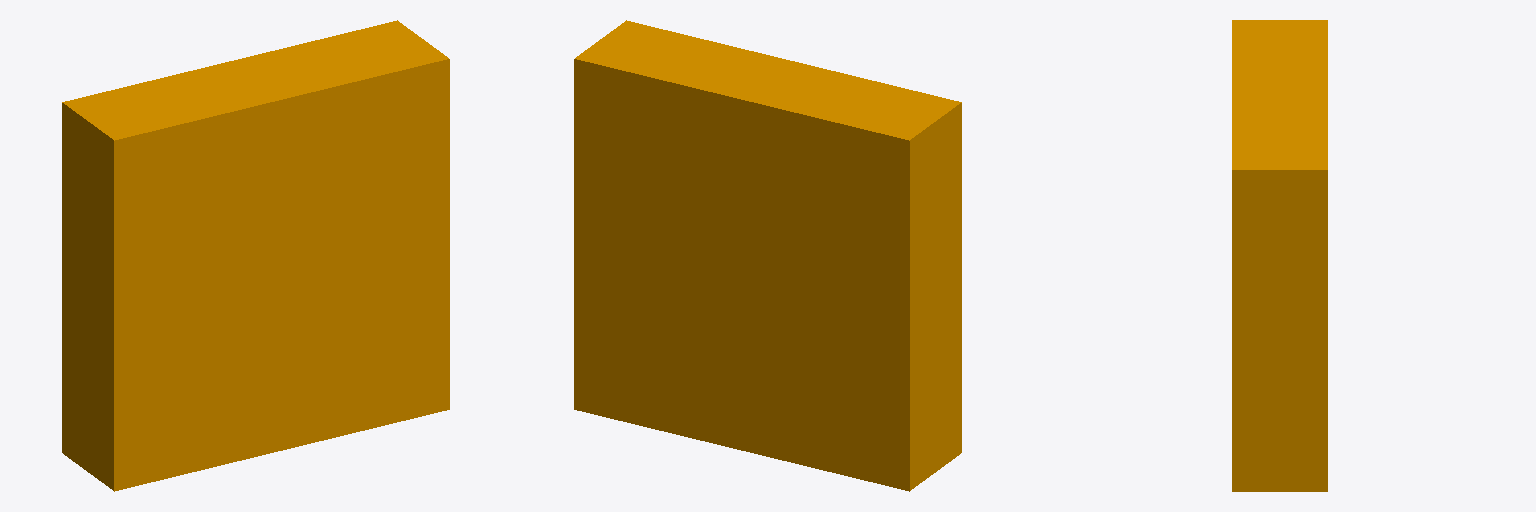
The robot description file, URDF, robot "object":
<?xml version="1.0"?>
<robot name="object">
  <link name="object">
    <visual>
      <origin xyz="0 0 0"/>
      <geometry>
        <mesh filename="meshes/cube_multicolor_scale.obj" scale="1 1 1"/>
      </geometry>
    </visual>
    <collision>
      <origin xyz="0 0 0"/>
      <geometry>
        <mesh filename="meshes/cube_multicolor_scale.obj" scale="1 1 1"/>
      </geometry>
    </collision>
    <inertial>
      <density value="567.0"/>
    </inertial>
  </link>
</robot>

--- What the picture shows (computed from the rendered views, not written in the file) ---
3 views of the same robot in one strip: view 1: azimuth 30°, elevation 25°; view 2: azimuth 150°, elevation 25°; view 3: azimuth 270°, elevation 25° (orthographic).
Model object with 1 links and 0 joints (none), rooted at object, posed every joint at zero.
Links seen in each view (by area): view 1: object; view 2: object; view 3: object.
Link boxes in pixels (x1=…): object: x1=62, y1=20, x2=449, y2=491; object: x1=574, y1=20, x2=961, y2=491; object: x1=1232, y1=20, x2=1327, y2=491.
Size in the robot's own frame: 0.2 by 0.054 by 0.2 metres.
1 mesh visuals loaded from 1 distinct referenced files (1 OBJ).